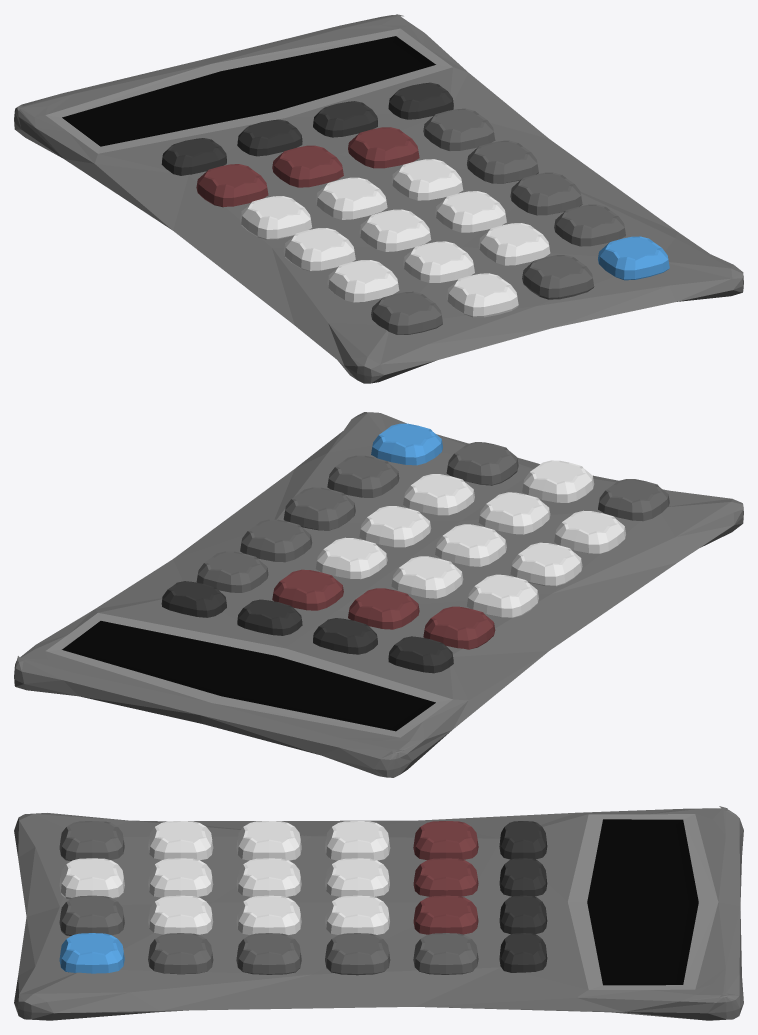
File: calculator.fbx
3 renders of one model, top to bottom at view 1: azimuth 30°, elevation 25°; view 2: azimuth 150°, elevation 25°; view 3: azimuth 270°, elevation 25°, orthographic.
Visible parts, largest first — view 1: Calculator, Button_Base_Comma, Button_0, Button_Solve, Button_7, Button_Base_Sign, Button_4, Button_Base_Multiply, Button_Delete_ClearEntry, Button_Base_Subtract, Button_1, Button_5 (+13 smaller); view 2: Calculator, Button_4, Button_Base_Comma, Button_7, Button_Base_Subtract, Button_Base_Multiply, Button_1, Button_0, Button_Base_Add, Button_5, Button_Solve, Button_Delete_ClearEntry (+13 smaller); view 3: Calculator, Button_Base_Subtract, Button_Base_Multiply, Button_Base_Divide, Button_Base_Add, Button_Solve, Button_0, Button_Base_Comma, Button_4, Button_7, Button_Base_Sign, Button_6 (+13 smaller).
Boxes of the visible parts, bbox=[...] form: Calculator: bbox=[14, 14, 743, 383]; Button_Base_Comma: bbox=[522, 255, 594, 299]; Button_0: bbox=[446, 273, 518, 317]; Button_Solve: bbox=[598, 236, 669, 280]; Button_7: bbox=[240, 196, 312, 239]; Button_Base_Sign: bbox=[371, 291, 442, 334]; Button_4: bbox=[283, 228, 355, 271]; Button_Base_Multiply: bbox=[467, 140, 538, 183]; Button_Delete_ClearEntry: bbox=[196, 164, 268, 207]; Button_Base_Subtract: bbox=[510, 172, 582, 215]; Button_1: bbox=[327, 260, 399, 302]; Button_5: bbox=[359, 209, 431, 251]; Calculator: bbox=[14, 412, 743, 777]; Button_4: bbox=[510, 542, 582, 586]; Button_Base_Comma: bbox=[446, 442, 518, 485]; Button_7: bbox=[467, 574, 538, 617]; Button_Base_Subtract: bbox=[283, 487, 355, 530]; Button_Base_Multiply: bbox=[240, 519, 312, 562]; Button_1: bbox=[554, 510, 625, 553]; Button_0: bbox=[522, 460, 594, 502]; Button_Base_Add: bbox=[327, 455, 399, 497]; Button_5: bbox=[435, 524, 506, 566]; Button_Solve: bbox=[371, 423, 442, 465]; Button_Delete_ClearEntry: bbox=[423, 606, 495, 649]; Calculator: bbox=[14, 806, 743, 1020]; Button_Base_Subtract: bbox=[236, 933, 301, 974]; Button_Base_Multiply: bbox=[325, 933, 390, 975]; Button_Base_Divide: bbox=[413, 933, 478, 974]; Button_Base_Add: bbox=[148, 933, 213, 974]; Button_Solve: bbox=[59, 933, 124, 973]; Button_0: bbox=[59, 858, 124, 899]; Button_Base_Comma: bbox=[59, 895, 124, 935]; Button_4: bbox=[236, 821, 301, 860]; Button_7: bbox=[325, 821, 390, 860]; Button_Base_Sign: bbox=[59, 821, 124, 860]; Button_6: bbox=[236, 895, 301, 934].
Bounding box in the file's own units: 20.68 × 2.2 × 33.01.
